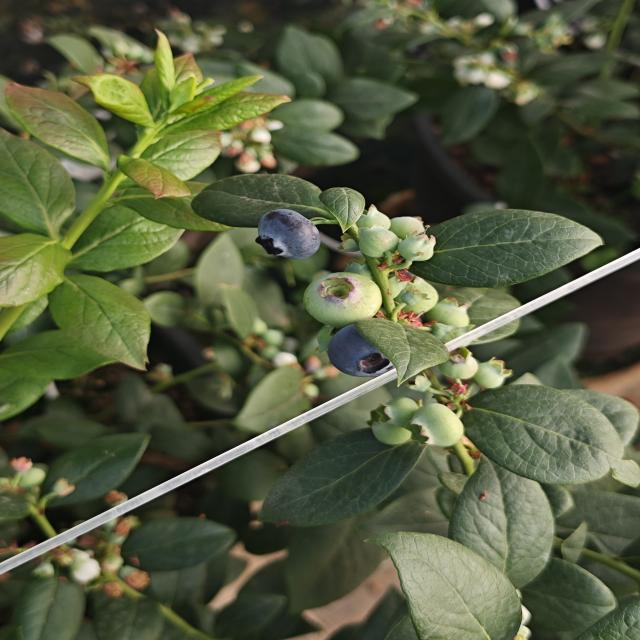ripe: (324, 321, 396, 380), (252, 207, 324, 263)
